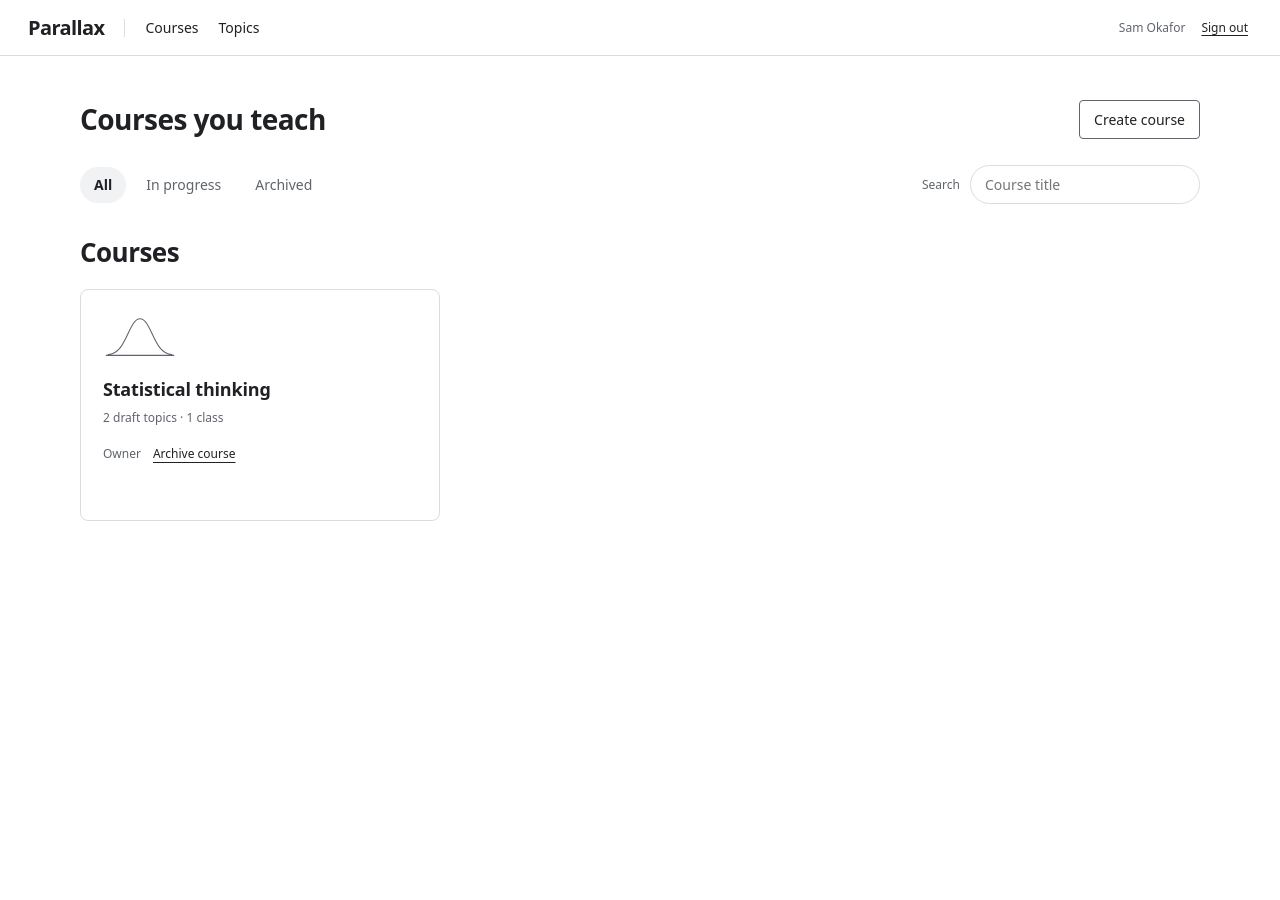
Scenario: archive and restore › A21 a 409 on archive reloads the cards so the stale action is replaced
This screenshot has width=1280, height=900.
Click the button with aria-label "Archive course Statistical thinking" at (194, 454), box [153,442,236,466]
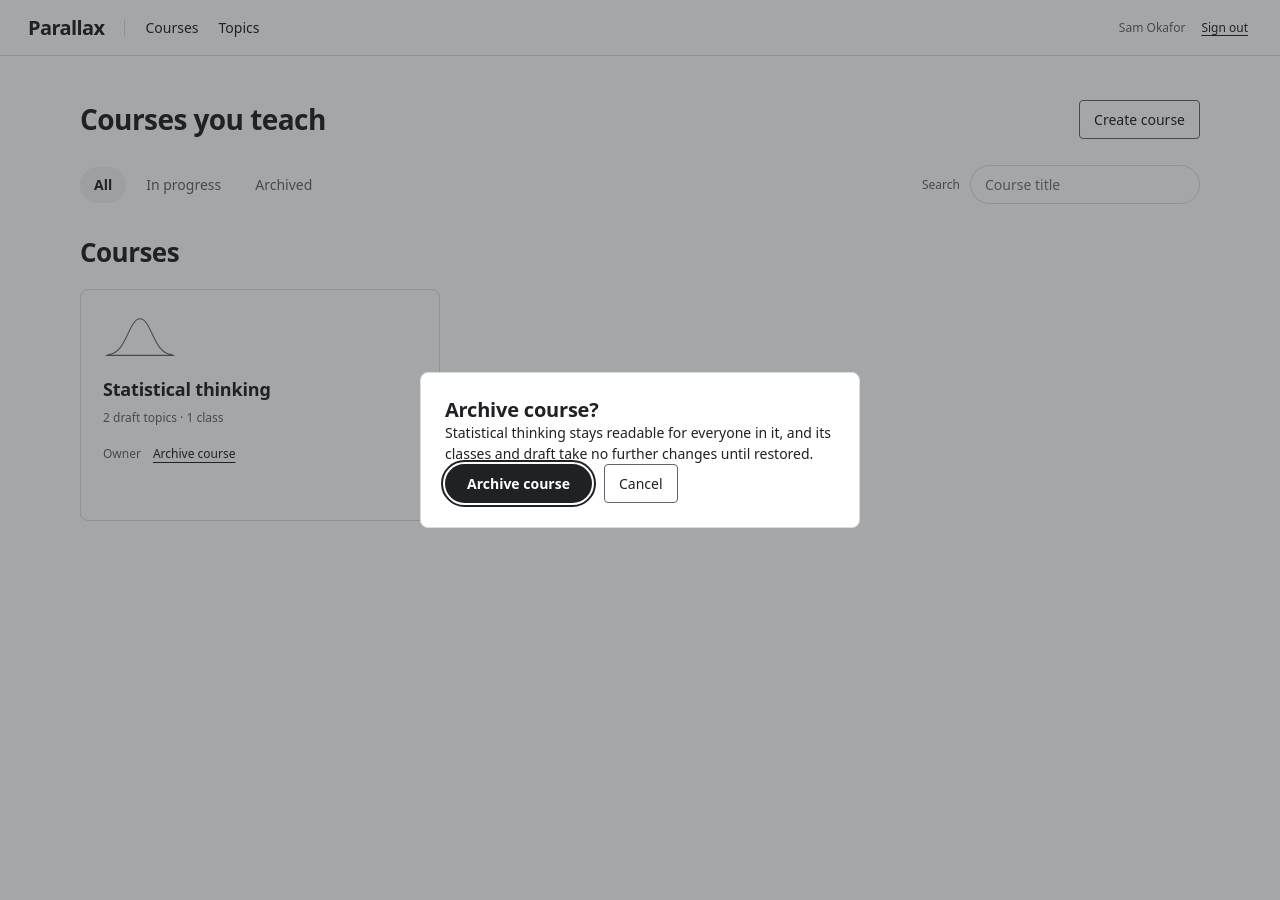
Click the button "Archive course" at (518, 484), box [445,464,592,503]
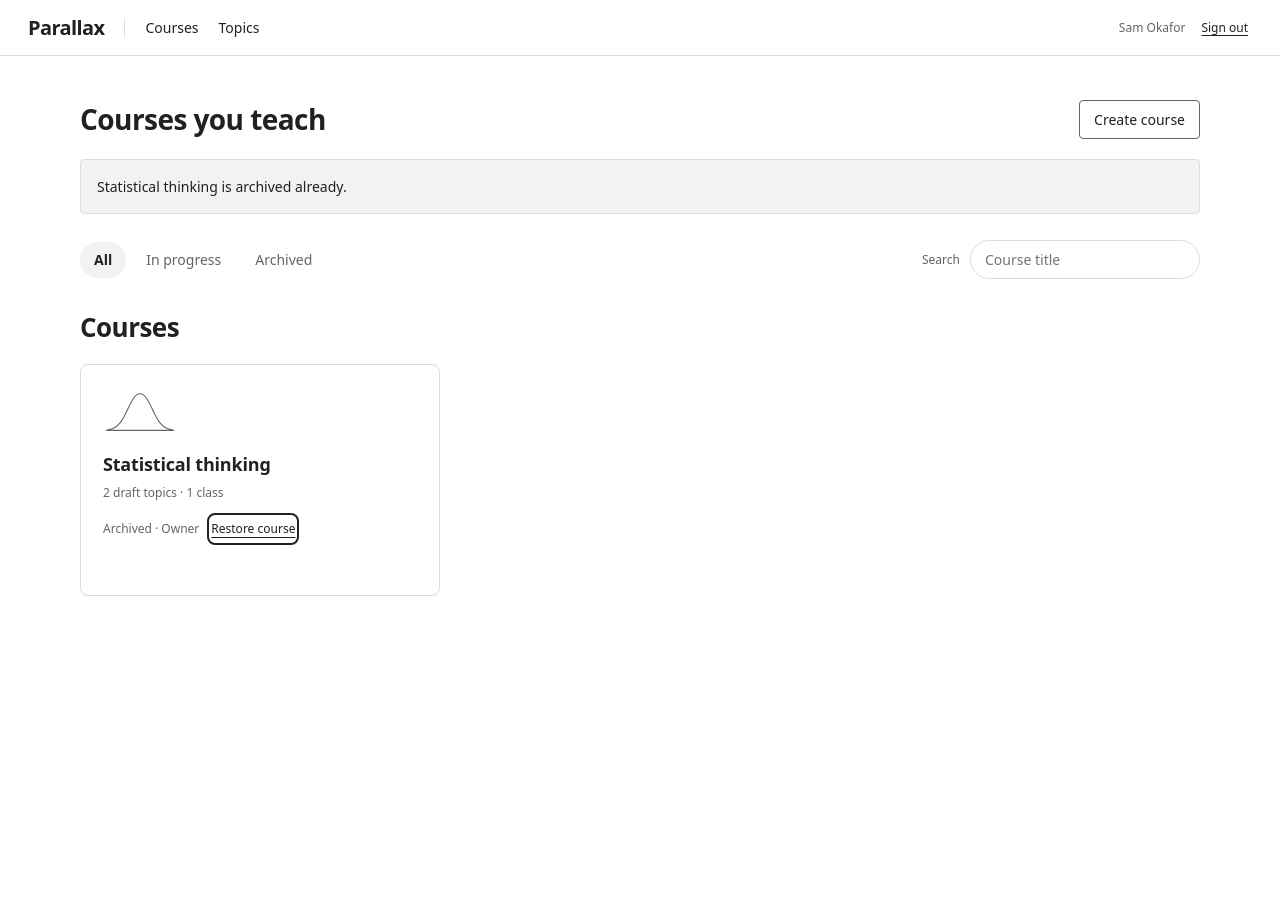
Result: the text "Statistical thinking is archived already." is shown at [97,176,347,197]
Result: the dialog is gone
Result: the button with aria-label "Restore course Statistical thinking" is shown at [211,518,295,542]
